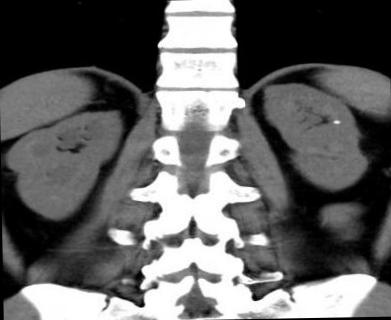Tas_Var: (332, 120, 341, 126)
